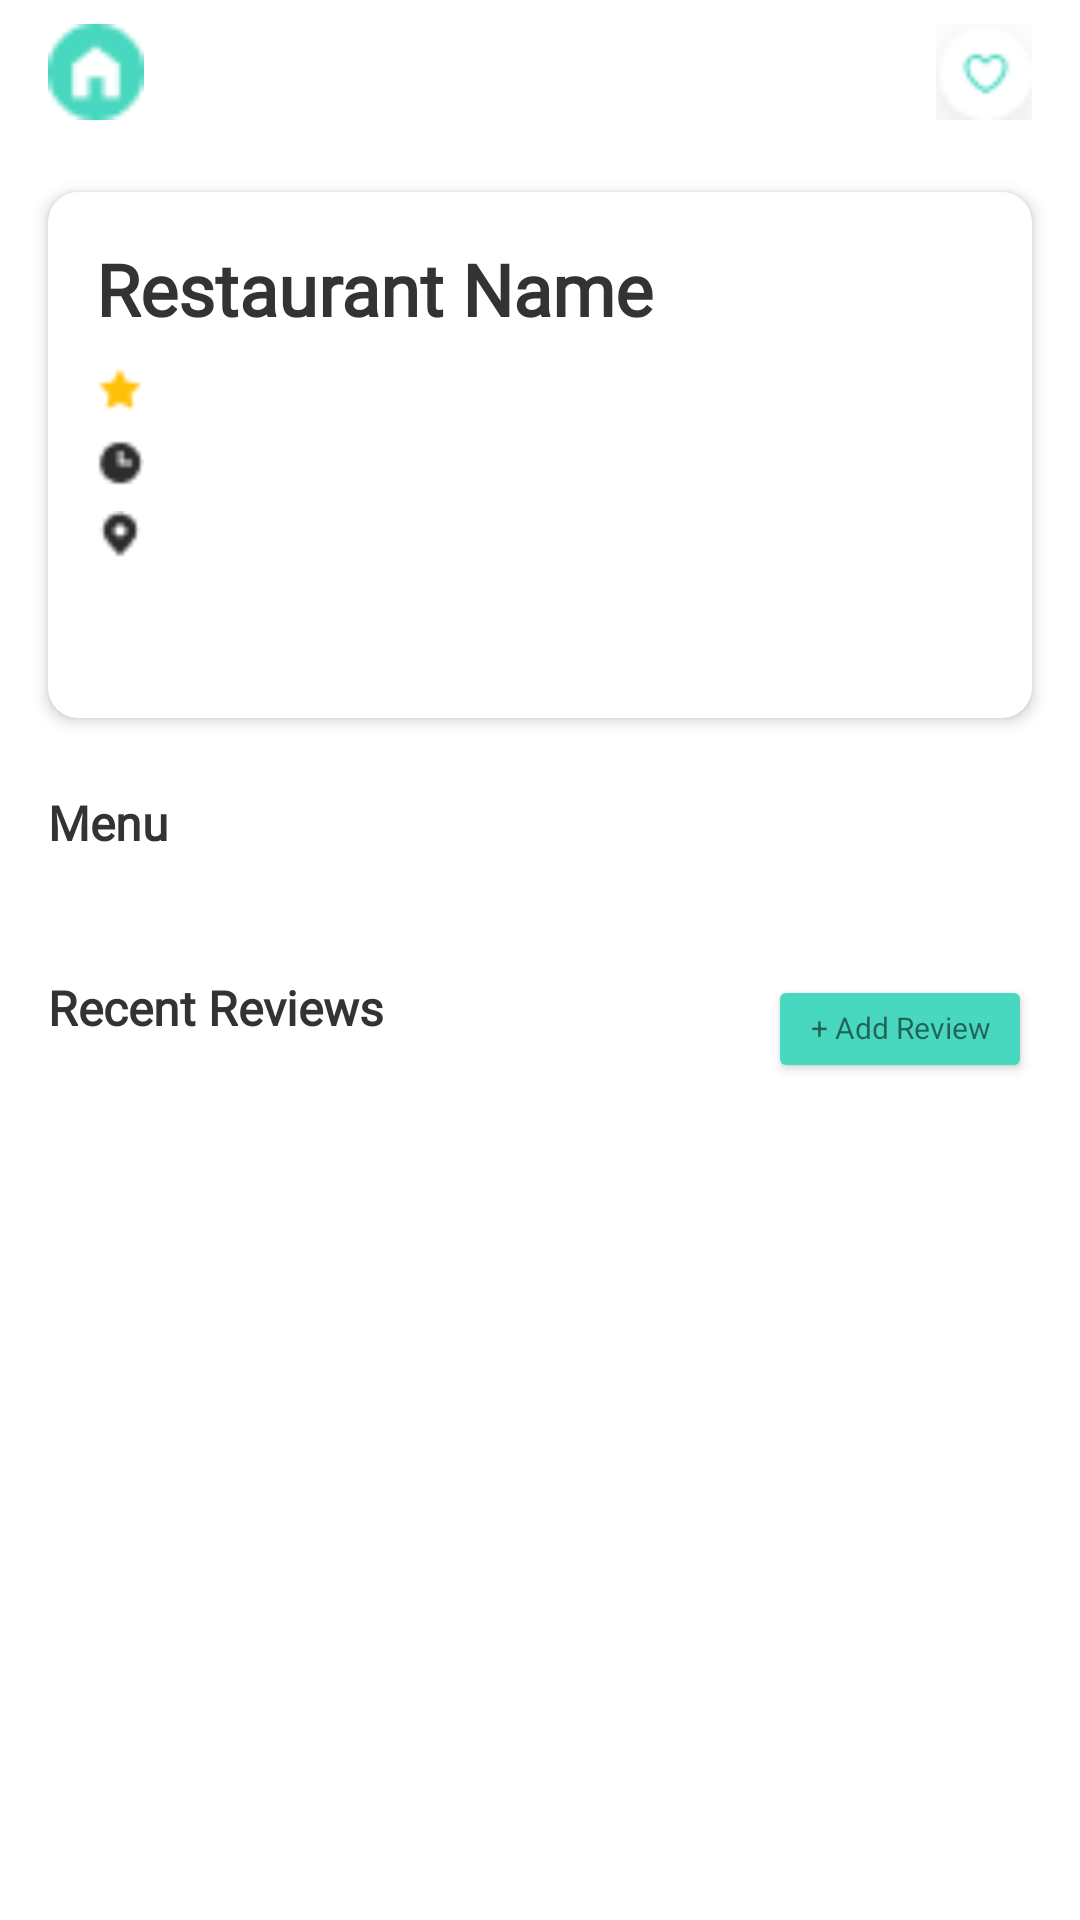

Icon bounding boxes for this 1080px x 1920px phone screenshot, format [x1, y1, x2, y2]:
clock: [99, 441, 144, 485]
home: [48, 24, 144, 120]
location: [102, 511, 138, 556]
not liked: [962, 53, 1010, 94]
star: [99, 369, 141, 409]
